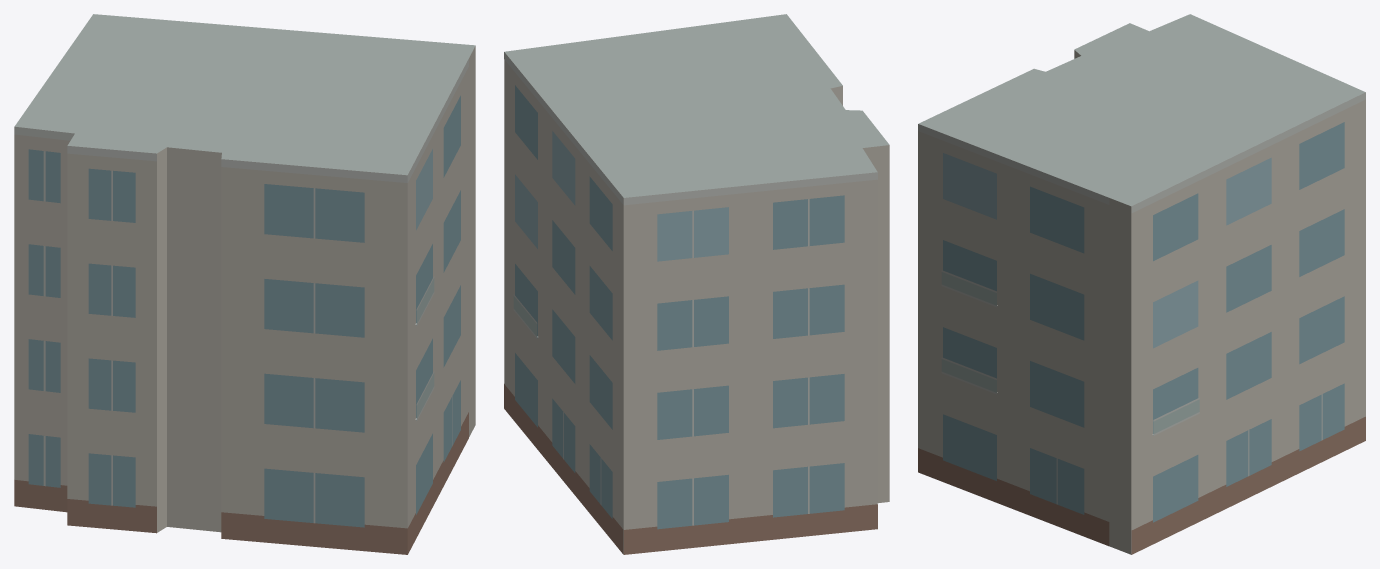
File: survey-upis-32678602.glb
3 renders of one model, left to right at view 1: azimuth 30°, elevation 25°; view 2: azimuth 150°, elevation 25°; view 3: azimuth 270°, elevation 25°, orthographic. The views are drawn at different scales.
Visible parts, largest first — view 1: survey-upis-32678602.tmp; view 2: survey-upis-32678602.tmp; view 3: survey-upis-32678602.tmp.
Part boxes in pixels (bbox=[...]): survey-upis-32678602.tmp: bbox=[14, 14, 475, 554]; survey-upis-32678602.tmp: bbox=[504, 14, 889, 554]; survey-upis-32678602.tmp: bbox=[918, 14, 1365, 554].
Bounding box in the file's own units: 13.98 × 11.8 × 13.75.
